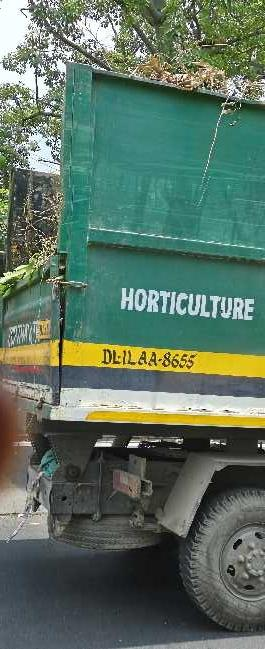License plate: (90, 344, 204, 374)
